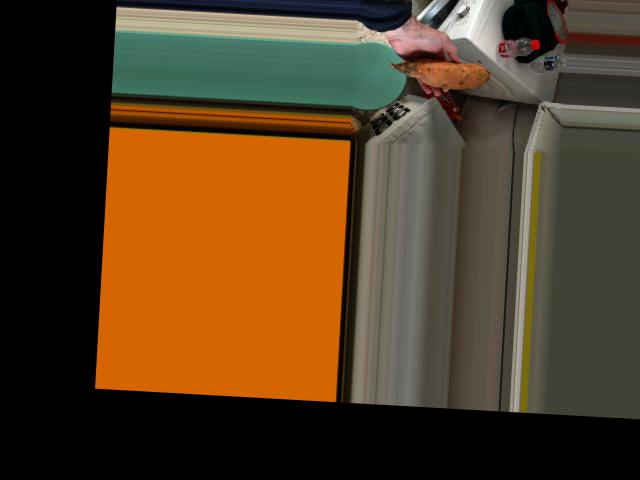sweet_potato: (410, 52, 499, 90)
